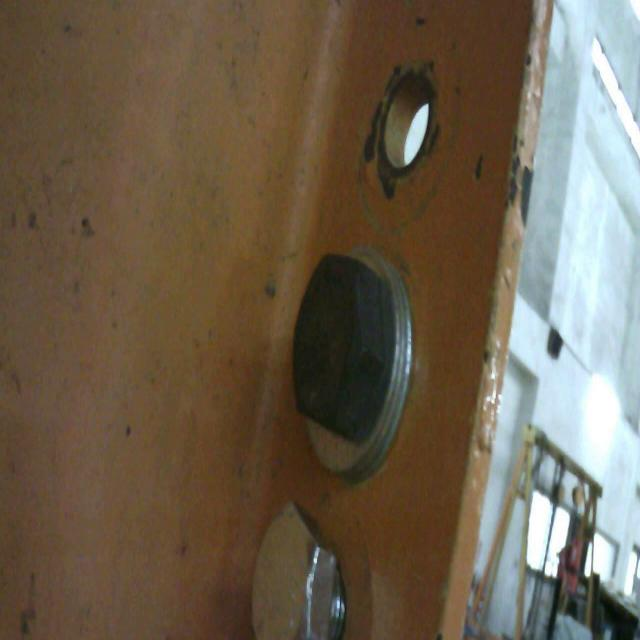Loose bolt: (253, 501, 348, 635)
Missing bolt: (381, 69, 437, 170)
Regular bolt: (240, 492, 355, 637)
Rusty bolt: (291, 249, 416, 468)
